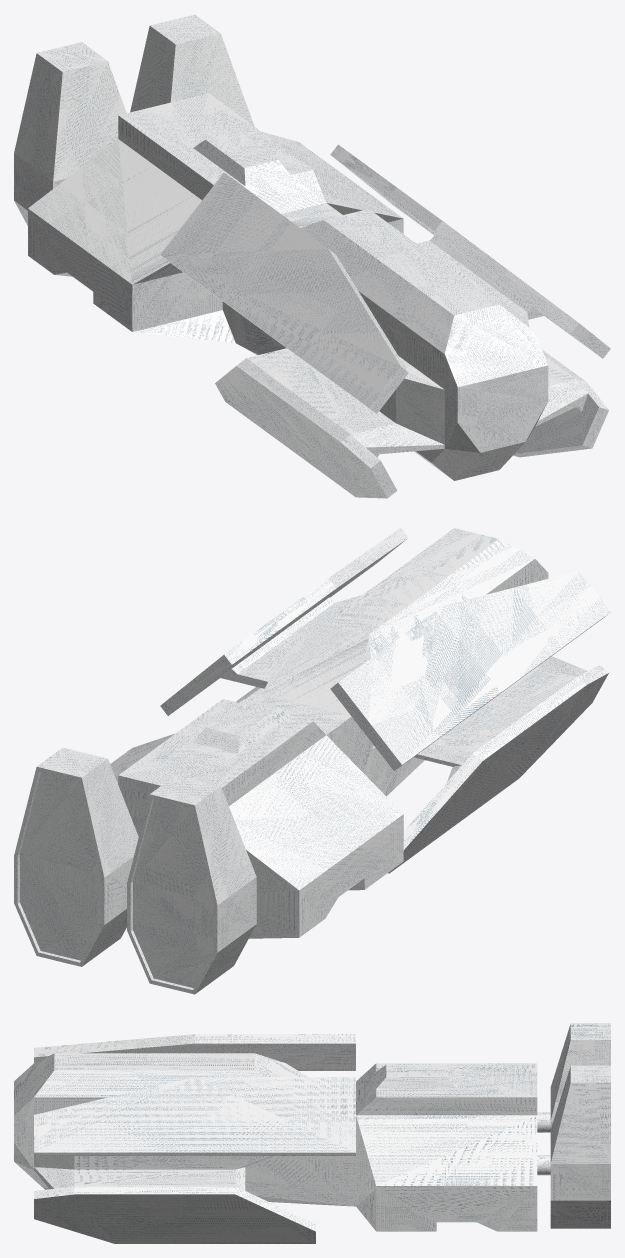
Rendered from Katana+Class.dae.
3 renders of one model, top to bottom at view 1: azimuth 30°, elevation 25°; view 2: azimuth 150°, elevation 25°; view 3: azimuth 270°, elevation 25°, orthographic. The views are drawn at different scales.
Parts seen in each view (by area): view 1: SketchUp (×3); view 2: SketchUp (×5); view 3: SketchUp (×3).
Boxes of the visible parts, box(x1,y1,x2,y2) form: SketchUp (×3): box(14, 14, 610, 498); SketchUp (×5): box(14, 527, 610, 994); SketchUp (×3): box(14, 1023, 610, 1243).
Bounding box in the file's own units: 16200 × 40050 × 11865.
